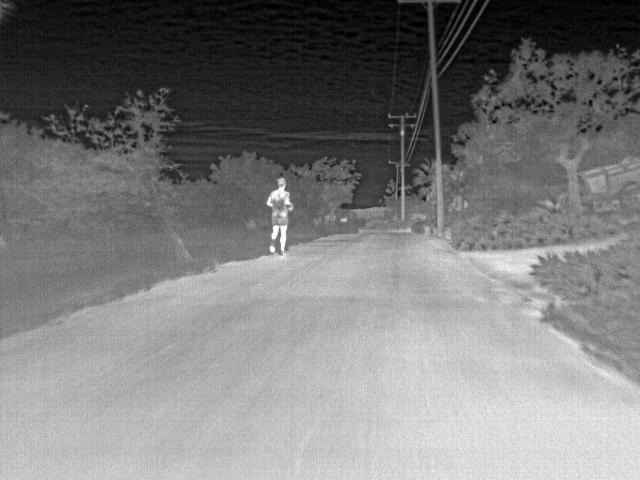person: (266, 176, 295, 257)
